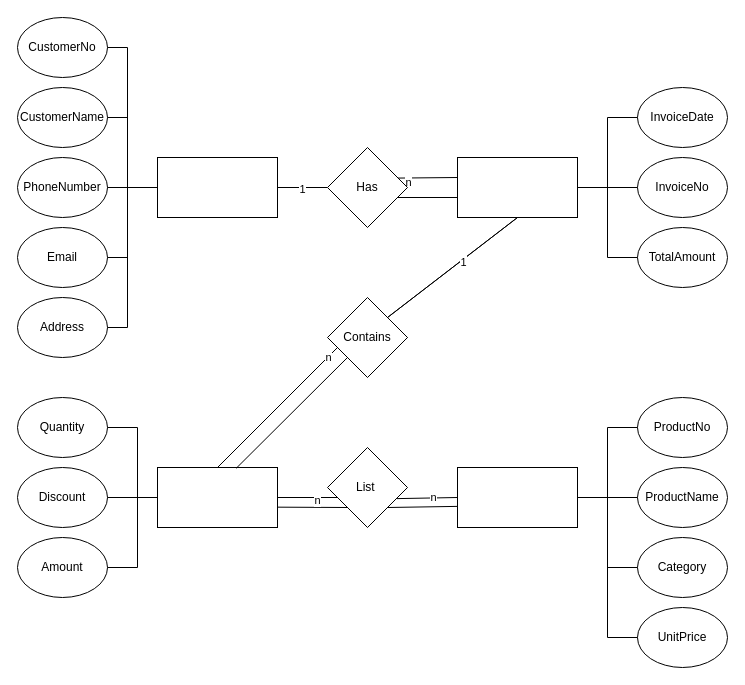
Some shapes in this 745 by 685 pixel diagram are drawn without their labels. The centre of each missing label's shape, as x and y in pixels:
Customer: the point at 217,187
Invoice: the point at 517,187
InvoiceDetail: the point at 217,497
Product: the point at 517,497
